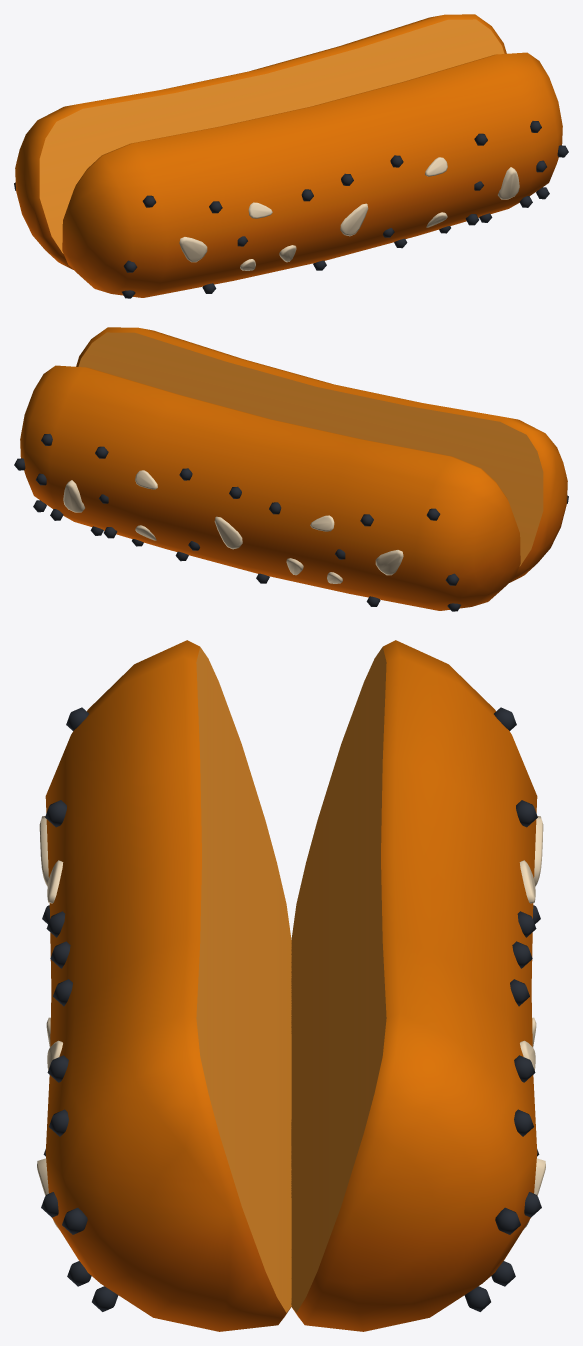
Rendered from HotDog_bun_with_seeds.003.fbx.
The picture shows the model from 3 angles, top to bottom: view 1: azimuth 30°, elevation 25°; view 2: azimuth 150°, elevation 25°; view 3: azimuth 270°, elevation 25°; orthographic projection. The views are drawn at different scales.
Visible parts, largest first — view 1: HotDog_bun_with_seeds.003; view 2: HotDog_bun_with_seeds.003; view 3: HotDog_bun_with_seeds.003.
Part boxes in pixels (<box>): HotDog_bun_with_seeds.003: <box>14,14,568,298</box>; HotDog_bun_with_seeds.003: <box>14,327,568,611</box>; HotDog_bun_with_seeds.003: <box>37,640,545,1331</box>.
Bounding box in the file's own units: 153 × 69.97 × 49.72.
